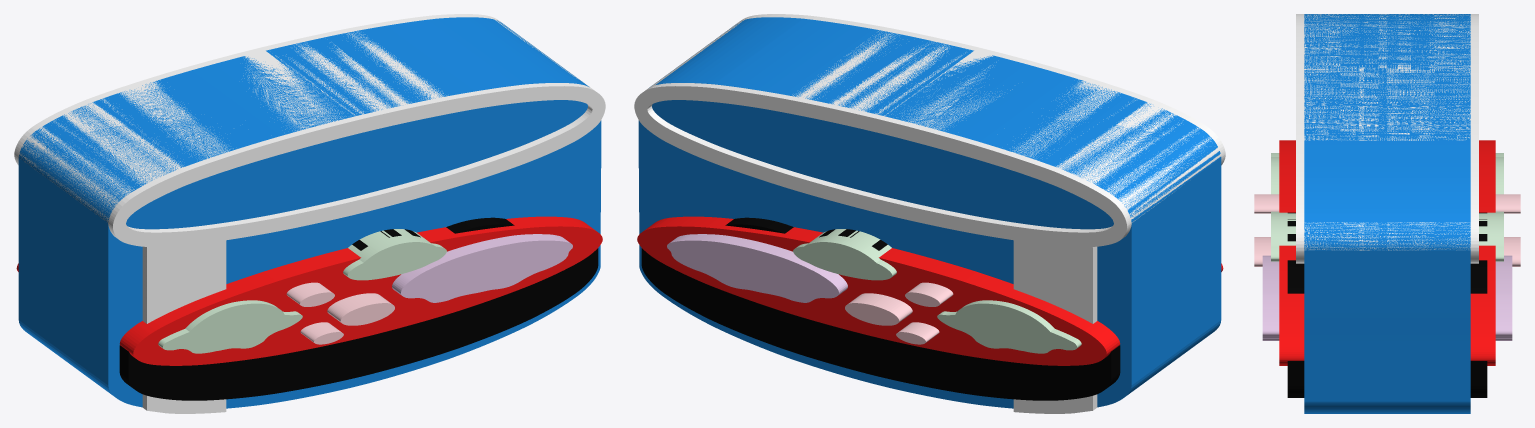
3 views of the same model, side by side, from view 1: azimuth 30°, elevation 25°; view 2: azimuth 150°, elevation 25°; view 3: azimuth 270°, elevation 25° (orthographic). The views are drawn at different scales.
Visible parts, largest first — view 1: U+1F9EB_layer00_obj00, U+1F9EB_layer01_obj00, U+1F9EB_layer03_obj00, U+1F9EB_layer02_obj01, U+1F9EB_layer05_obj00, U+1F9EB_layer01_obj02, U+1F9EB_layer04_obj00, U+1F9EB_layer04_obj01, U+1F9EB_layer06_obj00, U+1F9EB_layer06_obj02, U+1F9EB_layer01_obj01, U+1F9EB_layer06_obj01 (+1 smaller); view 2: U+1F9EB_layer00_obj00, U+1F9EB_layer01_obj00, U+1F9EB_layer03_obj00, U+1F9EB_layer02_obj01, U+1F9EB_layer05_obj00, U+1F9EB_layer01_obj02, U+1F9EB_layer04_obj00, U+1F9EB_layer04_obj01, U+1F9EB_layer06_obj00, U+1F9EB_layer06_obj02, U+1F9EB_layer01_obj01, U+1F9EB_layer06_obj01 (+1 smaller); view 3: U+1F9EB_layer00_obj00, U+1F9EB_layer01_obj00, U+1F9EB_layer03_obj00, U+1F9EB_layer05_obj00, U+1F9EB_layer04_obj01, U+1F9EB_layer02_obj01, U+1F9EB_layer02_obj02, U+1F9EB_layer06_obj02, U+1F9EB_layer06_obj00, U+1F9EB_layer04_obj00, U+1F9EB_layer02_obj00.
Boxes of the visible parts, x1,y1,x2,y2 form: U+1F9EB_layer00_obj00: (18,17,601,408); U+1F9EB_layer01_obj00: (14,14,605,246); U+1F9EB_layer03_obj00: (16,216,602,365); U+1F9EB_layer02_obj01: (119,248,598,400); U+1F9EB_layer05_obj00: (392,234,572,302); U+1F9EB_layer01_obj02: (142,240,226,413); U+1F9EB_layer04_obj00: (158,300,302,353); U+1F9EB_layer04_obj01: (343,229,446,280); U+1F9EB_layer06_obj00: (327,293,394,325); U+1F9EB_layer06_obj02: (286,282,334,306); U+1F9EB_layer01_obj01: (139,228,224,246); U+1F9EB_layer06_obj01: (300,322,343,344); U+1F9EB_layer00_obj00: (638,17,1221,408); U+1F9EB_layer01_obj00: (634,14,1225,246); U+1F9EB_layer03_obj00: (637,216,1223,365); U+1F9EB_layer02_obj01: (641,248,1120,400); U+1F9EB_layer05_obj00: (667,234,847,302); U+1F9EB_layer01_obj02: (1013,240,1097,413); U+1F9EB_layer04_obj00: (937,300,1081,353); U+1F9EB_layer04_obj01: (793,229,896,280); U+1F9EB_layer06_obj00: (845,293,912,325); U+1F9EB_layer06_obj02: (905,282,953,306); U+1F9EB_layer01_obj01: (1015,228,1100,246); U+1F9EB_layer06_obj01: (896,322,939,344); U+1F9EB_layer00_obj00: (1304,14,1470,413); U+1F9EB_layer01_obj00: (1296,14,1478,263); U+1F9EB_layer03_obj00: (1279,140,1495,365); U+1F9EB_layer05_obj00: (1262,255,1512,340); U+1F9EB_layer04_obj01: (1271,211,1503,261); U+1F9EB_layer02_obj01: (1287,361,1487,397); U+1F9EB_layer02_obj02: (1287,260,1487,293); U+1F9EB_layer06_obj02: (1254,194,1520,213); U+1F9EB_layer06_obj00: (1254,237,1520,266); U+1F9EB_layer04_obj00: (1271,153,1503,194); U+1F9EB_layer02_obj00: (1287,212,1487,241).
Bounding box in the file's own units: 0.3175 × 0.1665 × 0.16.
